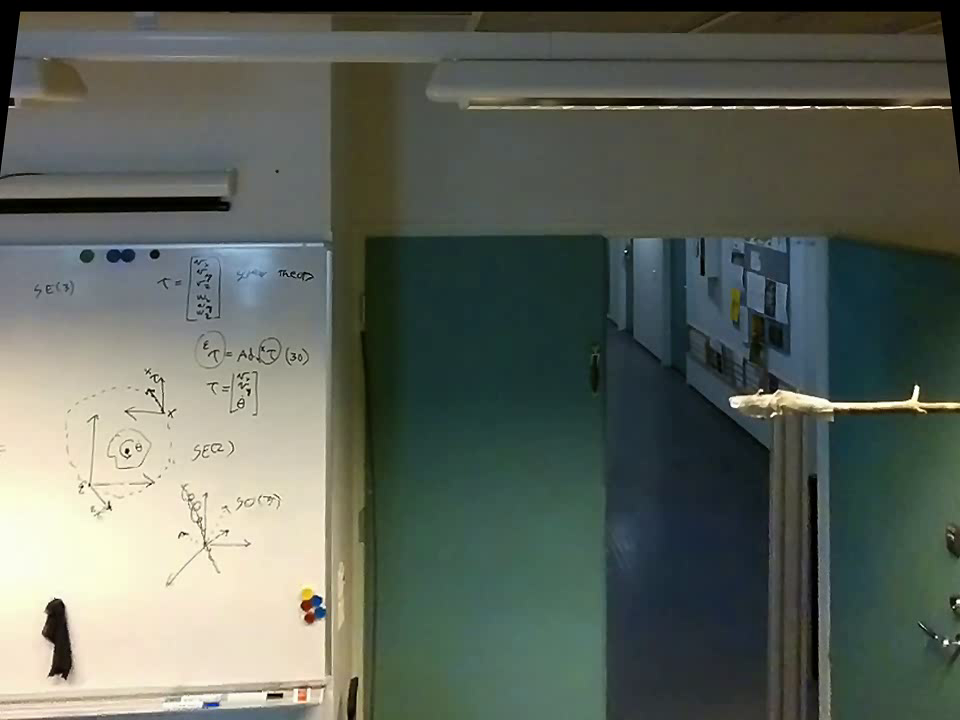aluminum_frame: (1, 670, 341, 717), (762, 417, 814, 718), (320, 248, 338, 680), (0, 234, 337, 254)
branch: (837, 373, 958, 423)
